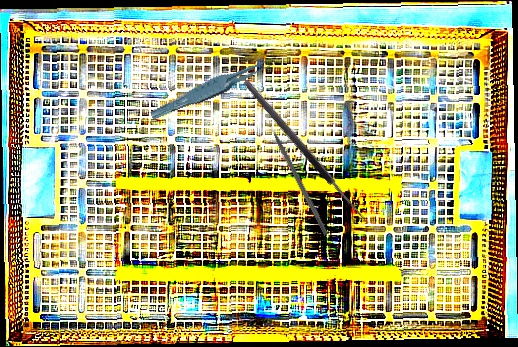Hook Surgical: (241, 72, 379, 227), (263, 114, 330, 237)
Tissue Forceps: (146, 55, 281, 122)
